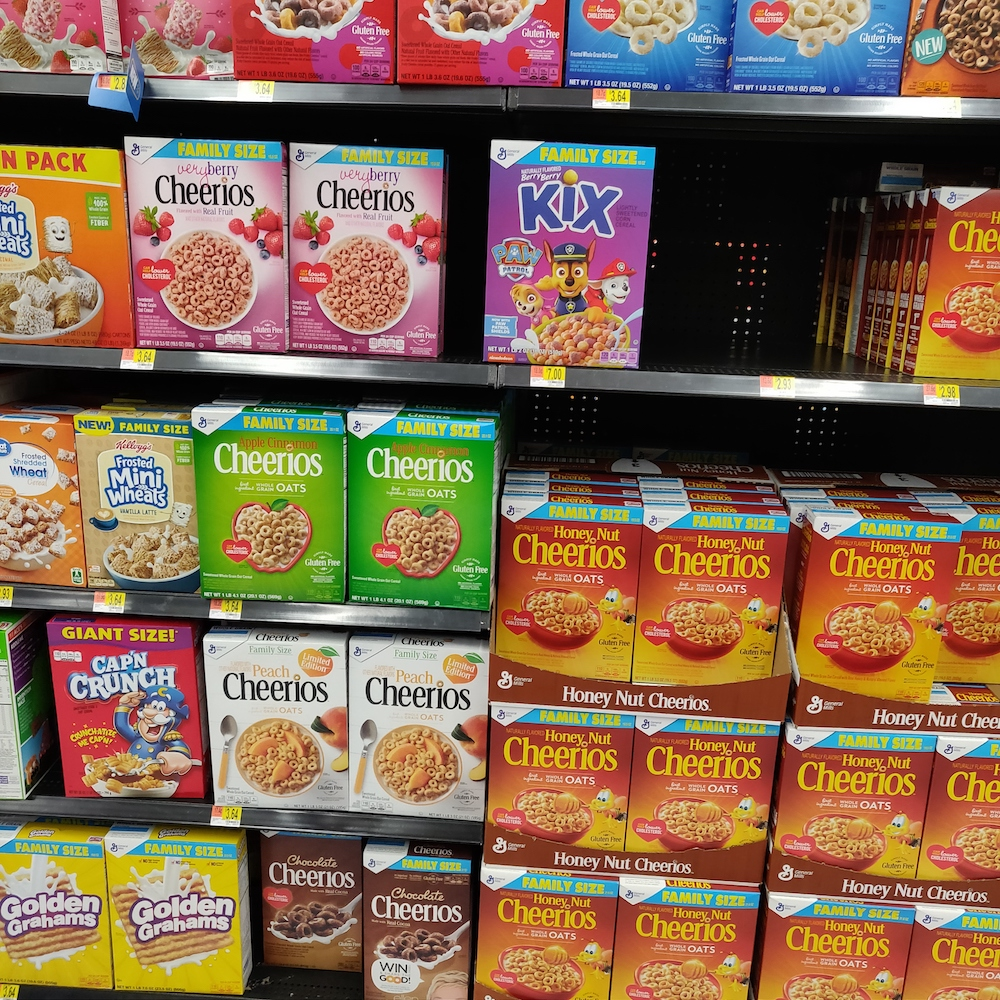Kix Berry -568919964: (484, 162, 651, 373)
